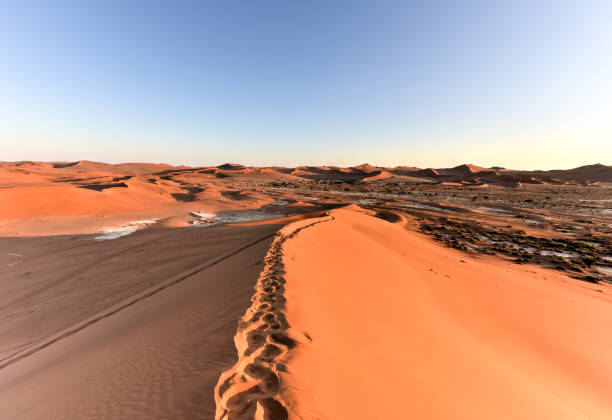human_foot_print: (223, 232, 307, 418)
